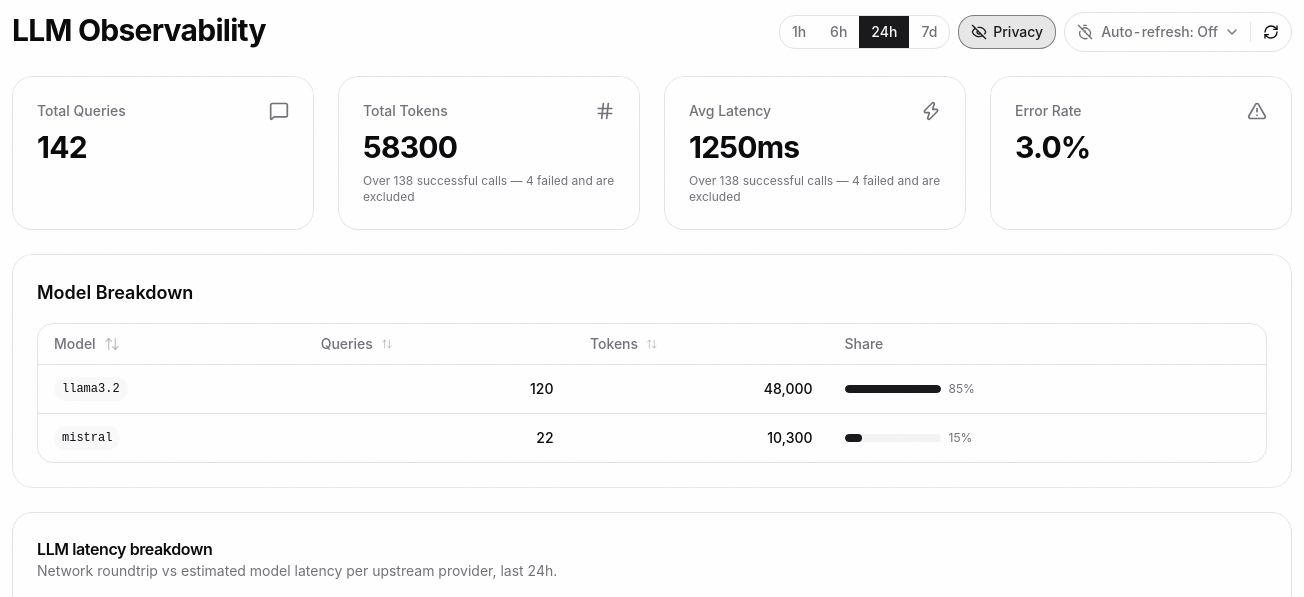
Test case: time range drives the whole page › passes the selected window down to the latency breakdown
Expected: the text "per upstream provider, last 24h." is shown, [37,562,557,578]
Step 1. Click the button "7d" → (929, 32), box [909,16,949,48]
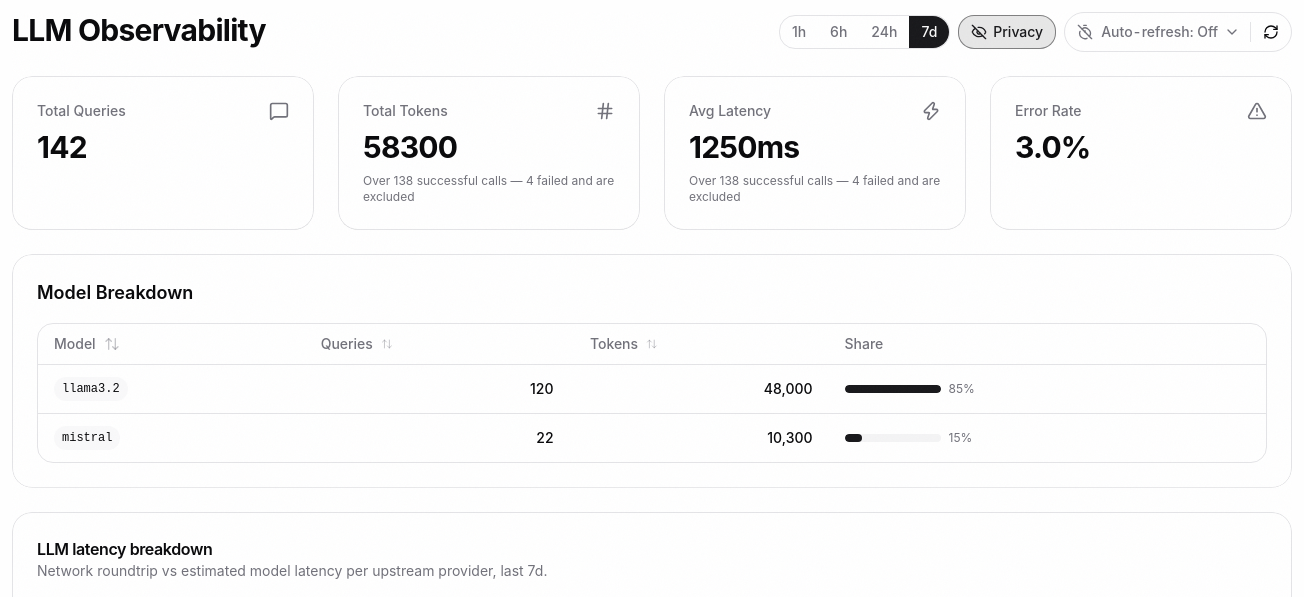
Result: the text "per upstream provider, last 7d." is shown at [37,562,548,578]
